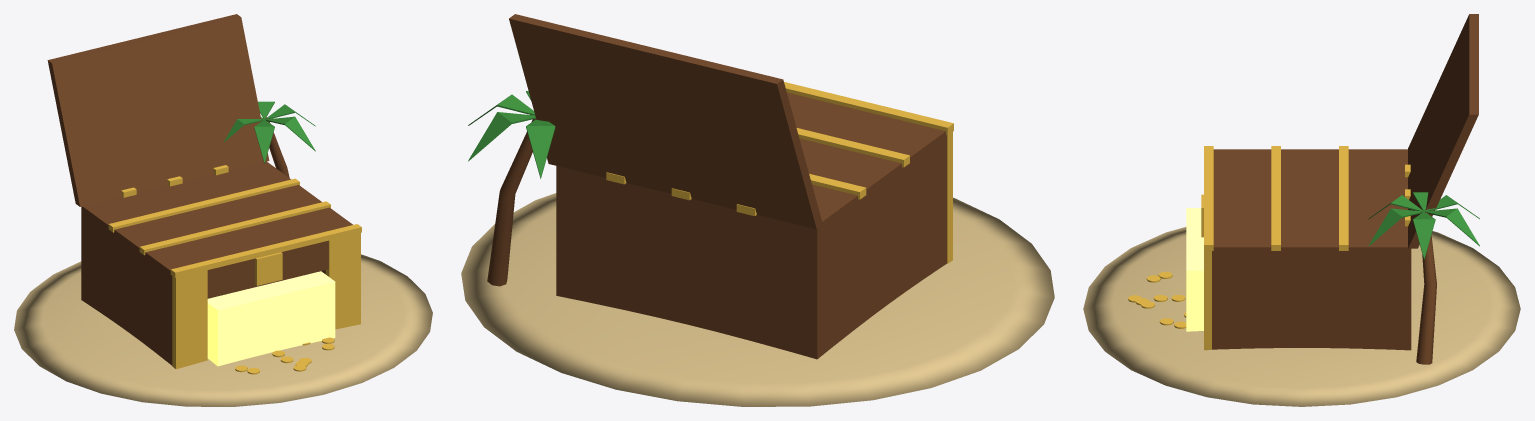
The model's file is TreasureChestFurnace_Roblox.fbx.
The picture shows the model from 3 angles, left to right: view 1: azimuth 30°, elevation 25°; view 2: azimuth 150°, elevation 25°; view 3: azimuth 270°, elevation 25°; orthographic projection. The views are drawn at different scales.
Parts seen in each view (by area): view 1: ChestWood, Sand, Gold, BurnZone, PalmLeaf; view 2: ChestWood, Sand, Gold, PalmLeaf; view 3: ChestWood, Sand, Gold, PalmLeaf, BurnZone.
Part boxes in pixels (x1=…): ChestWood: x1=47, y1=14, x2=352, y2=365; Sand: x1=14, y1=254, x2=432, y2=406; Gold: x1=108, y1=165, x2=361, y2=374; BurnZone: x1=207, y1=271, x2=335, y2=366; PalmLeaf: x1=224, y1=101, x2=315, y2=163; ChestWood: x1=487, y1=14, x2=946, y2=359; Sand: x1=461, y1=193, x2=1054, y2=406; Gold: x1=606, y1=82, x2=953, y2=263; PalmLeaf: x1=468, y1=91, x2=555, y2=178; ChestWood: x1=1212, y1=14, x2=1478, y2=364; Sand: x1=1083, y1=227, x2=1520, y2=406; Gold: x1=1128, y1=146, x2=1410, y2=350; PalmLeaf: x1=1368, y1=192, x2=1479, y2=259; BurnZone: x1=1186, y1=208, x2=1203, y2=331.
Size of the model in its own units: 1440 by 840 by 1360.
